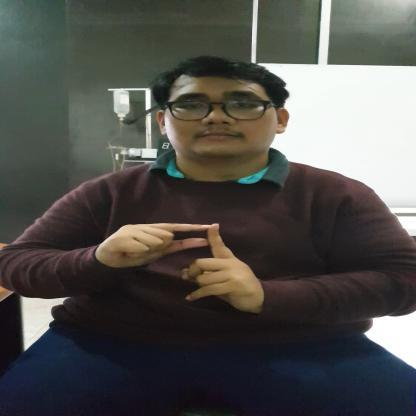P: (99, 222, 264, 314)
